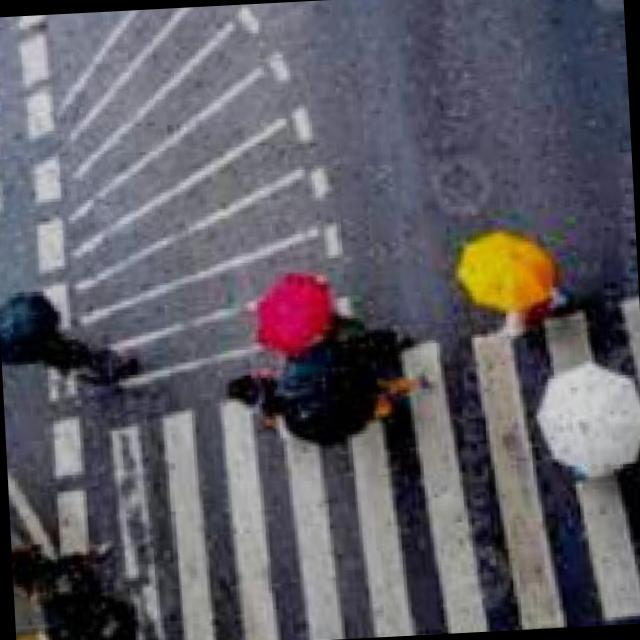zebra: (109, 300, 640, 640)
